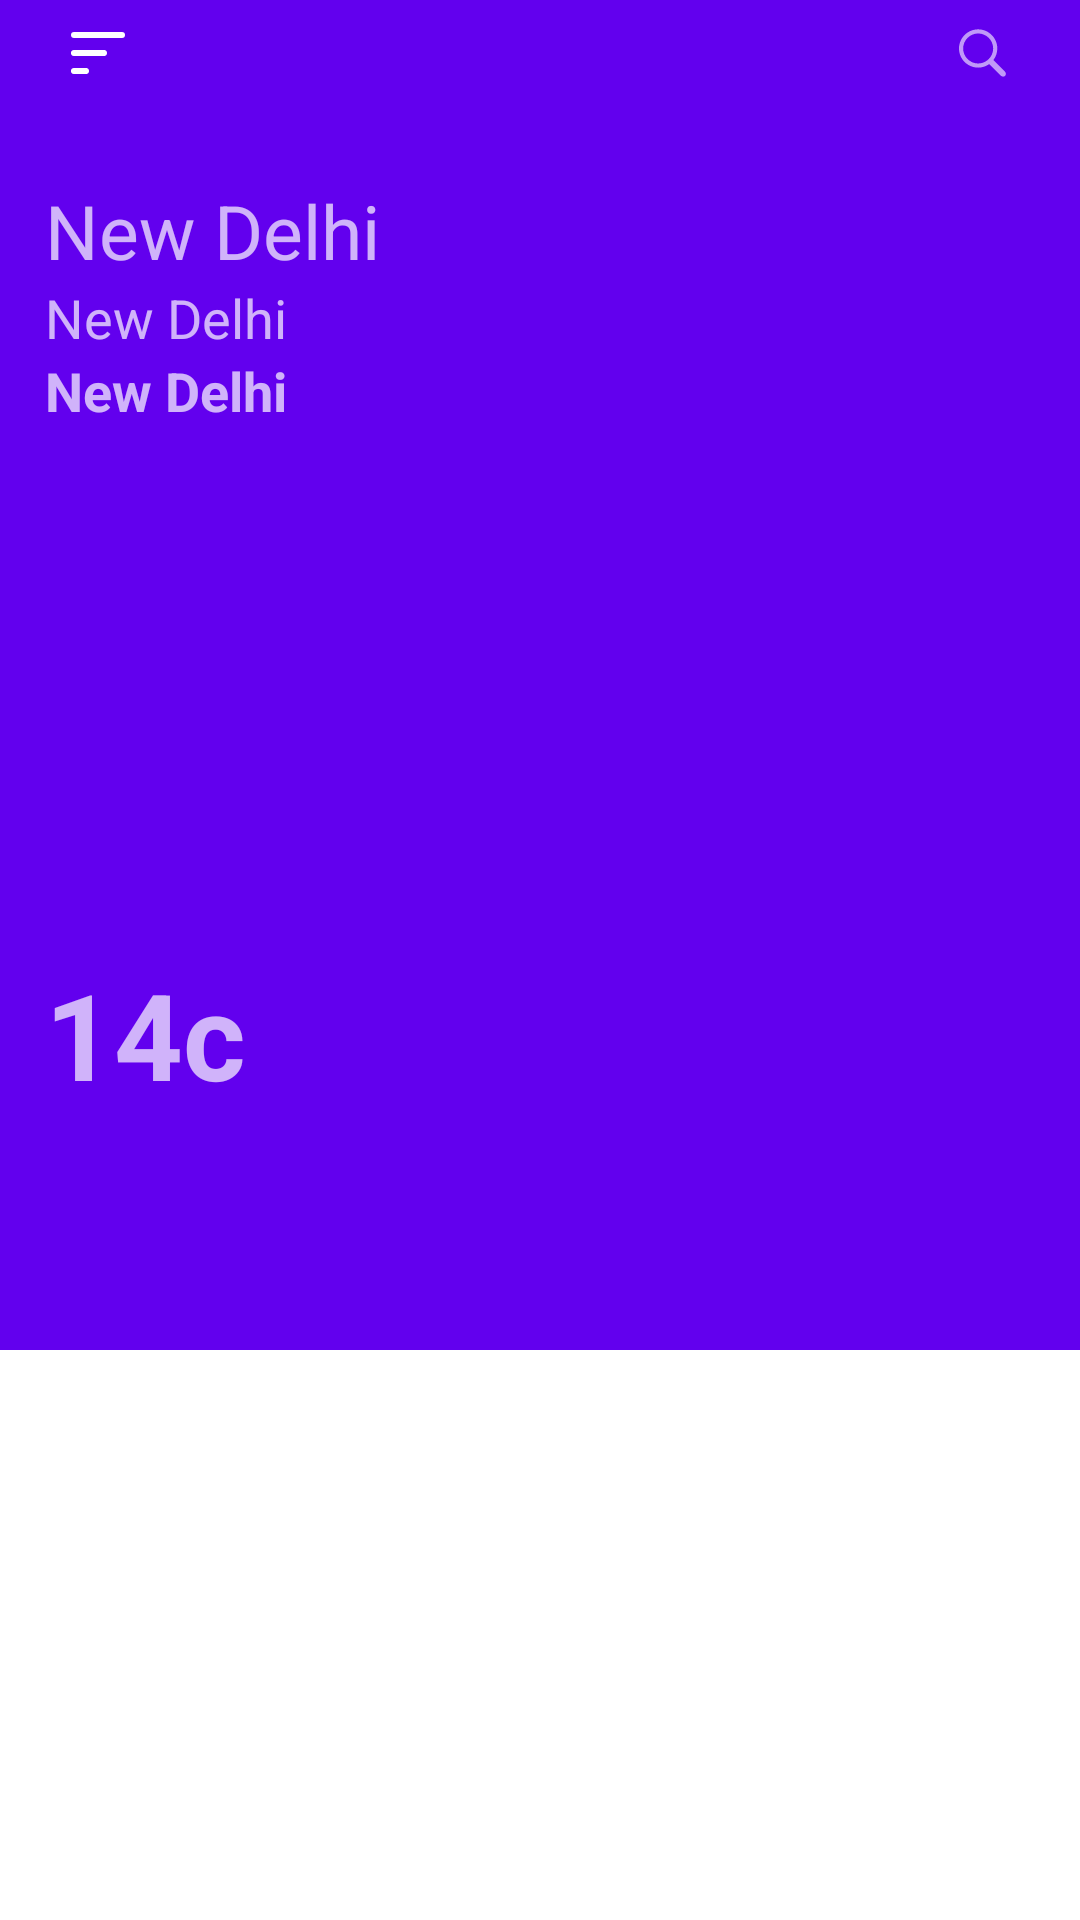

Icon click points for this 1080 × 1920 phone screenshot, format (x,y):
menu: (98,53)
search magglass: (982,53)
